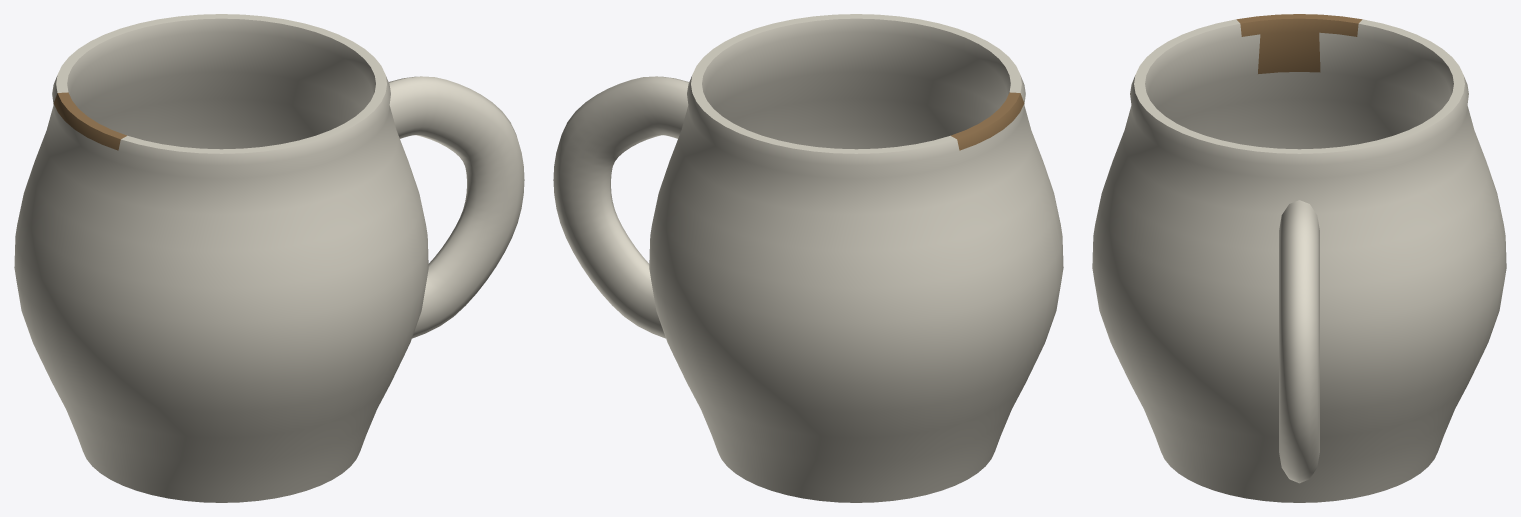
File: kitchen_mug_dirty_c.fbx
The picture shows the model from 3 angles, left to right: view 1: azimuth 30°, elevation 25°; view 2: azimuth 150°, elevation 25°; view 3: azimuth 270°, elevation 25°; orthographic projection.
Parts seen in each view (by area): view 1: kitchen_mug_dirty_c; view 2: kitchen_mug_dirty_c; view 3: kitchen_mug_dirty_c.
Boxes of the visible parts, box(x1,y1,x2,y2) form: kitchen_mug_dirty_c: box(14, 14, 524, 502); kitchen_mug_dirty_c: box(553, 14, 1063, 502); kitchen_mug_dirty_c: box(1092, 14, 1506, 502).
Bounding box in the file's own units: 0.1258 × 0.09 × 0.0939.
